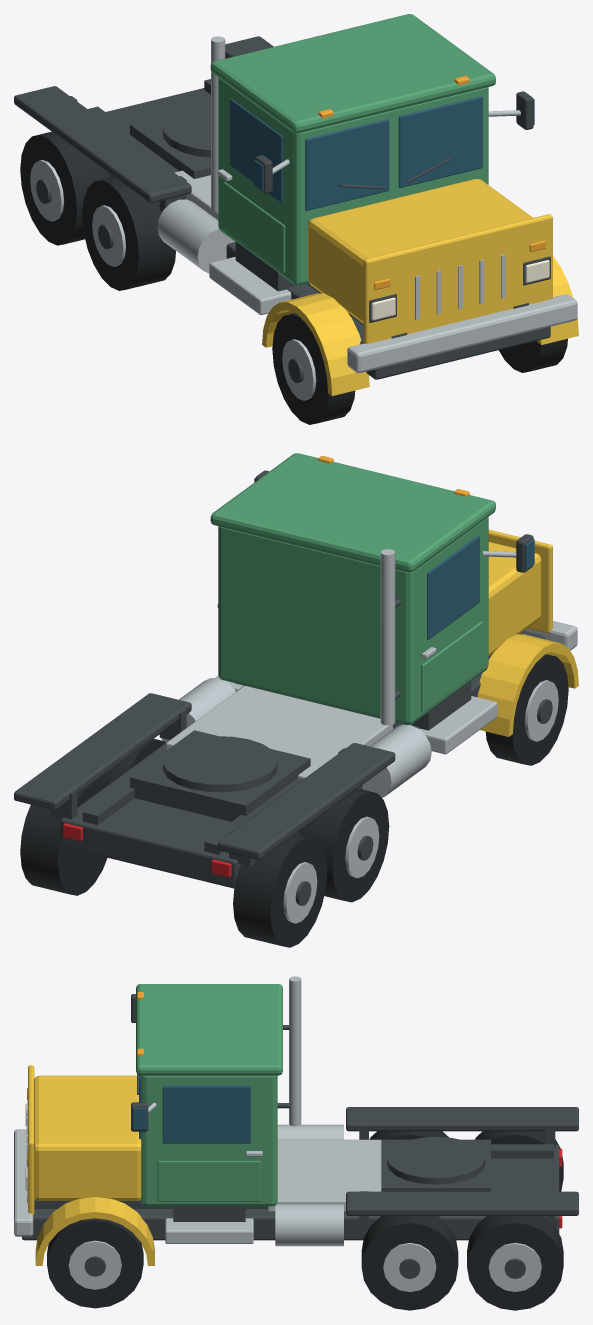
Rendered from semi_flatbed_tractor.glb.
3 renders of one model, top to bottom at view 1: azimuth 30°, elevation 25°; view 2: azimuth 150°, elevation 25°; view 3: azimuth 270°, elevation 25°, orthographic. The views are drawn at different scales.
Parts seen in each view (by area): view 1: Tractor cab roof, Tractor front fascia, Tractor engine hood, Tractor cab, Tandem rear mudguard, Tractor front bumper, Tractor windshield, Tractor windshield.001, Tractor drive tire, Tractor drive tire.002, Tractor painted front fender, Tractor chassis (+18 smaller); view 2: Tractor cab, Tractor cab roof, Tractor chassis, Chassis access catwalk, Tandem rear mudguard, Tandem rear mudguard.001, Tractor drive tire.002, Fifth wheel coupling plate, Fifth wheel mounting block, Tractor drive tire.003, Tractor drive tire, Tractor painted front fender (+17 smaller); view 3: Tractor cab roof, Tractor engine hood, Tractor cab, Chassis access catwalk, Tractor drive tire.001, Tandem rear mudguard.001, Tractor drive tire.003, Tractor chassis, Tandem rear mudguard, Cab door side glass.001, Tractor front tire.001, Cab lower door panel.001 (+17 smaller).
Boxes of the visible parts, x1,y1,x2,y2 form: Tractor cab roof: (210, 14, 495, 133); Tractor front fascia: (363, 214, 552, 343); Tractor engine hood: (308, 179, 532, 323); Tractor cab: (218, 78, 488, 285); Tandem rear mudguard: (14, 86, 191, 202); Tractor front bumper: (347, 294, 577, 372); Tractor windshield: (305, 119, 389, 210); Tractor windshield.001: (398, 96, 482, 187); Tractor drive tire: (82, 177, 175, 290); Tractor drive tire.002: (20, 131, 110, 245); Tractor painted front fender: (262, 293, 369, 395); Tractor chassis: (106, 88, 550, 379); Tractor cab: (218, 517, 488, 724); Tractor cab roof: (210, 453, 495, 572); Tractor chassis: (61, 631, 544, 888); Chassis access catwalk: (166, 686, 392, 779); Tandem rear mudguard: (218, 743, 395, 859); Tandem rear mudguard.001: (14, 693, 191, 810); Tractor drive tire.002: (233, 834, 327, 947); Fifth wheel coupling plate: (162, 736, 277, 792); Fifth wheel mounting block: (130, 730, 310, 821); Tractor drive tire.003: (20, 784, 107, 895); Tractor drive tire: (298, 788, 389, 902); Tractor painted front fender: (477, 634, 578, 736); Tractor cab roof: (136, 984, 282, 1075); Tractor engine hood: (34, 1075, 141, 1200); Tractor cab: (141, 1075, 277, 1206); Chassis access catwalk: (268, 1139, 381, 1211); Tractor drive tire.001: (361, 1216, 458, 1310); Tandem rear mudguard.001: (346, 1191, 578, 1215); Tractor drive tire.003: (467, 1216, 563, 1310); Tractor chassis: (22, 1145, 559, 1240); Tandem rear mudguard: (346, 1107, 578, 1131); Cab door side glass.001: (162, 1086, 250, 1143); Tractor front tire.001: (47, 1218, 143, 1308); Cab lower door panel.001: (157, 1160, 261, 1201).
Size of the model in its own units: 3.05 by 3.07 by 6.43.
